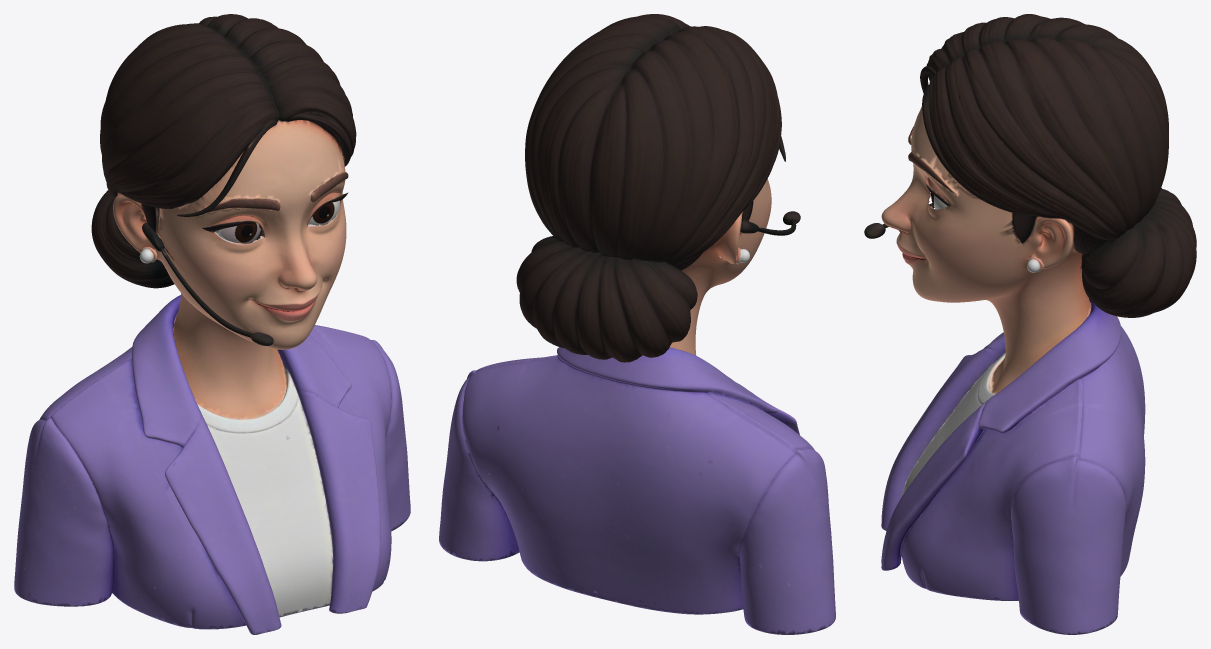
The model's file is ayla_rigged_raw.glb.
3 renders of one model, left to right at view 1: azimuth 30°, elevation 25°; view 2: azimuth 150°, elevation 25°; view 3: azimuth 270°, elevation 25°, orthographic. The views are drawn at different scales.
Visible parts, largest first — view 1: Maryam, EyeLeft; view 2: Maryam; view 3: Maryam.
Boxes of the visible parts, x1,y1,x2,y2 form: Maryam: (14, 14, 410, 634); EyeLeft: (220, 222, 260, 243); Maryam: (439, 14, 835, 634); Maryam: (864, 14, 1196, 634).
Size of what is drawn, in the model's own units: 0.7477 by 0.9795 by 0.5757.
Materials: 4 (3 with a texture image).
